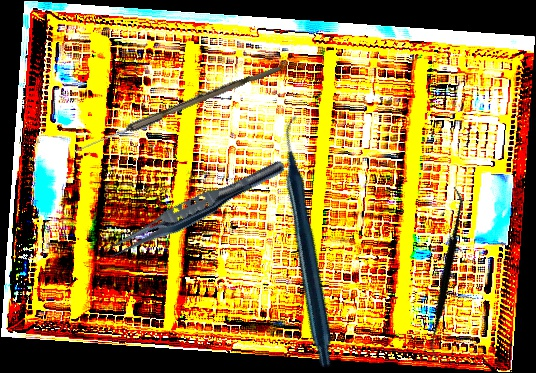Handpiece: (195, 112, 427, 371)
Spatula Surgical: (374, 185, 516, 362)
Surgical Spoon: (72, 61, 282, 157)
Tissue Forceps: (100, 150, 289, 269)
